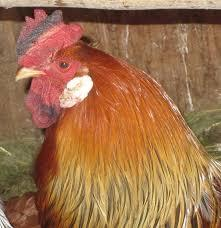AbNormal: (15, 9, 83, 80)
